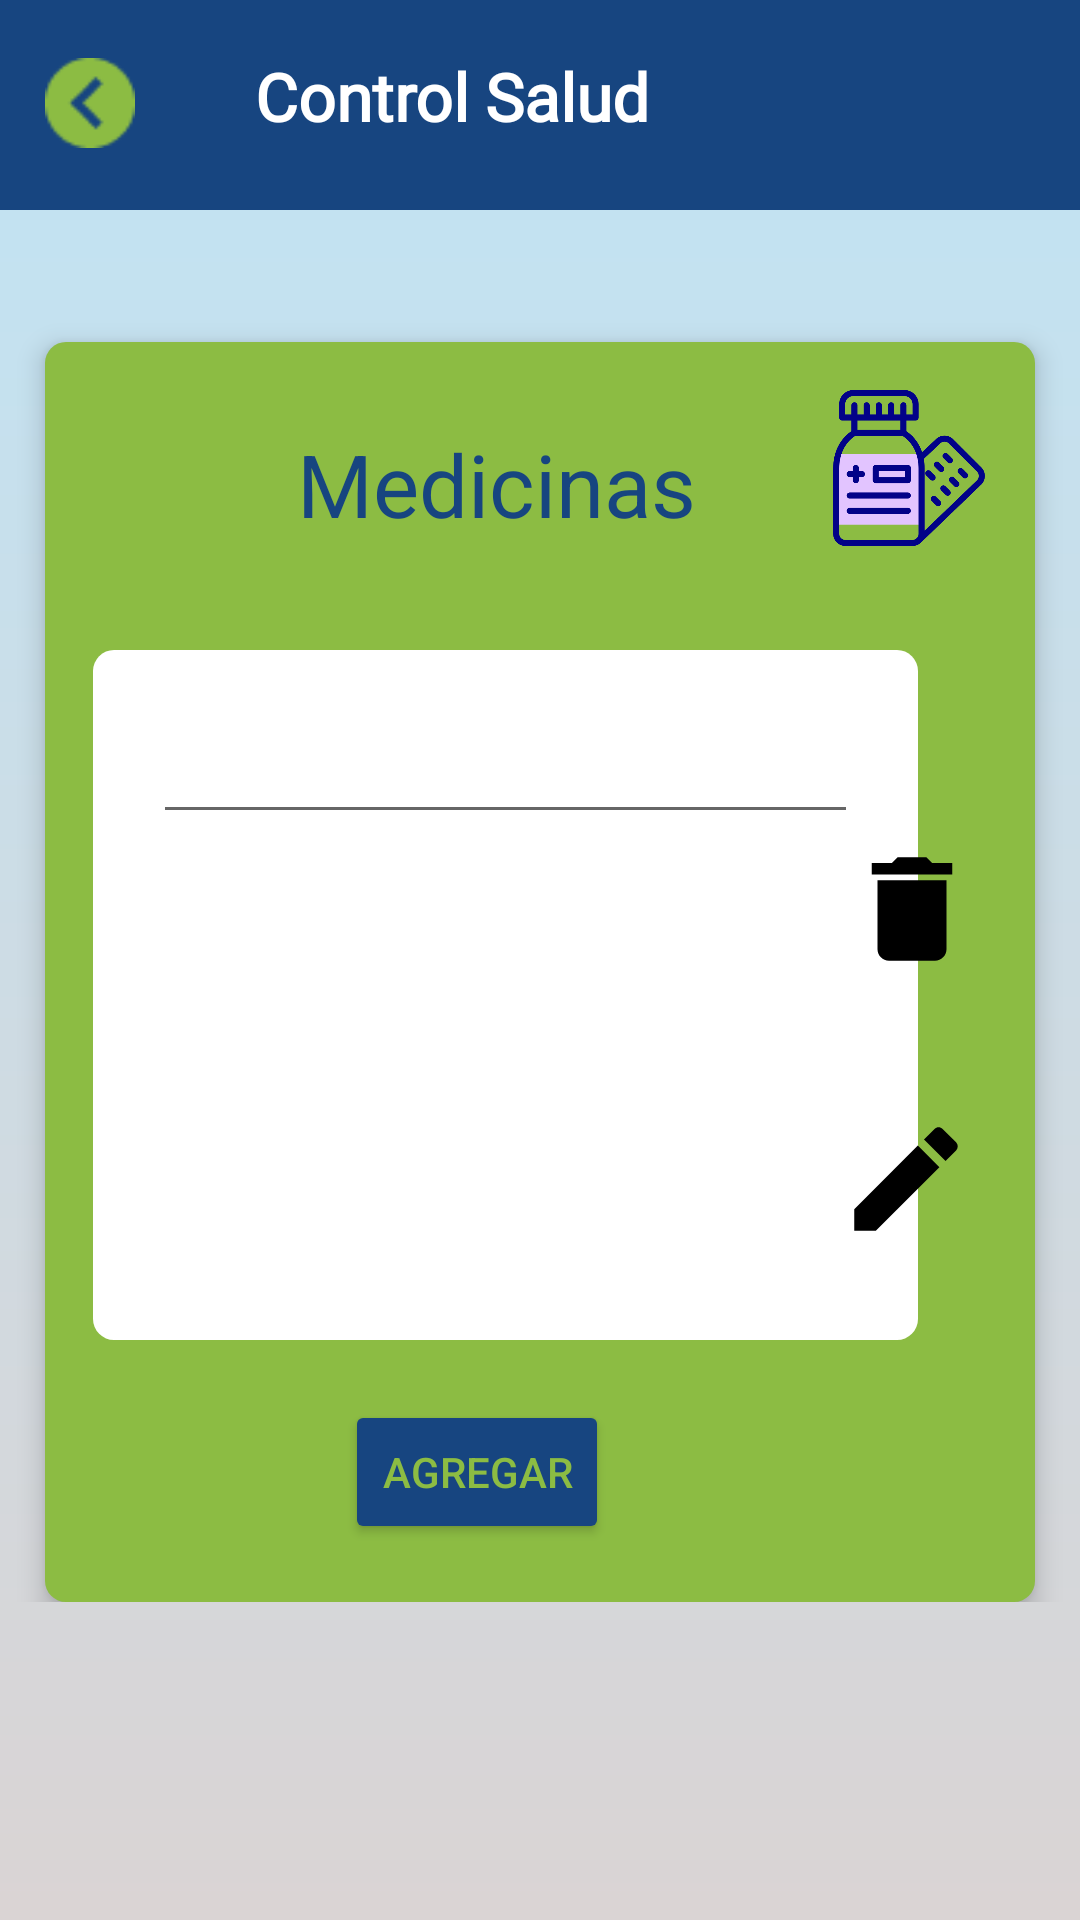

Where to tap for icons on this 1080w x 1920h app screen, as [x,y]:
back: [90,103]
delete: [912,909]
edit: [906,1179]
